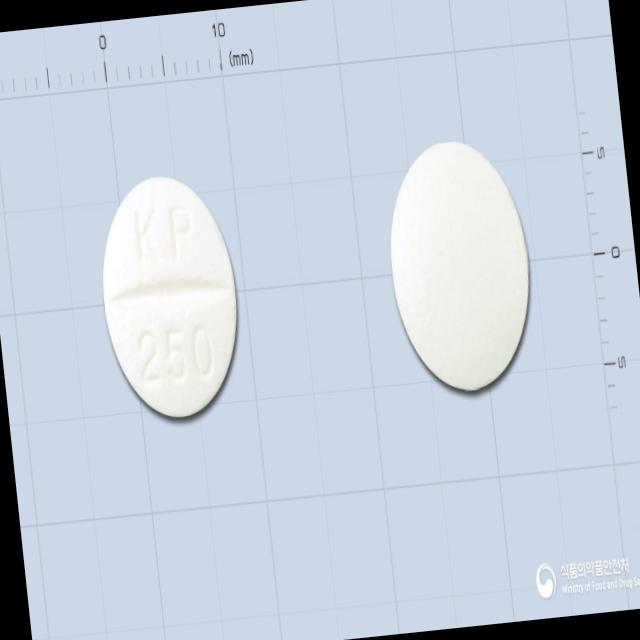Kipocin: (92, 168, 250, 424)
